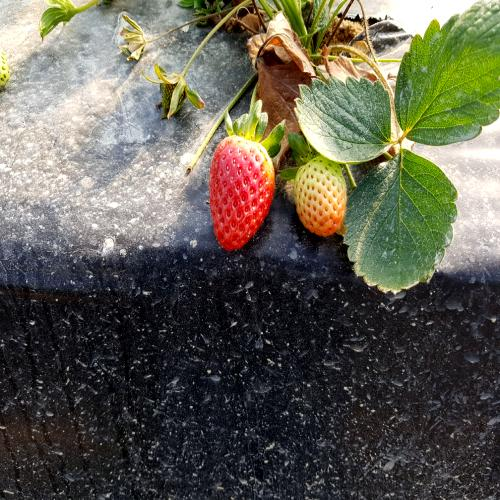partially-ripe: (289, 156, 351, 239)
ripe: (205, 138, 281, 258)
